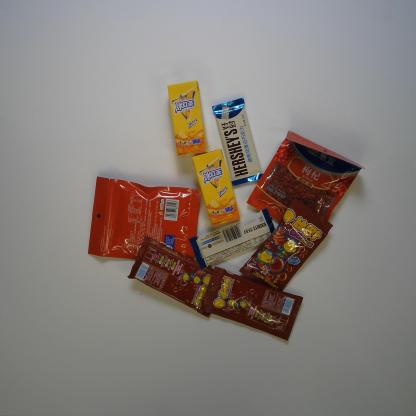Candy: (238, 196, 334, 292), (198, 265, 304, 343), (123, 236, 217, 322)
Chocolate: (190, 206, 275, 270), (212, 96, 264, 188)
Dried Fruit: (246, 128, 367, 227), (86, 174, 202, 261)
Drink: (190, 146, 242, 228), (165, 80, 209, 158)
